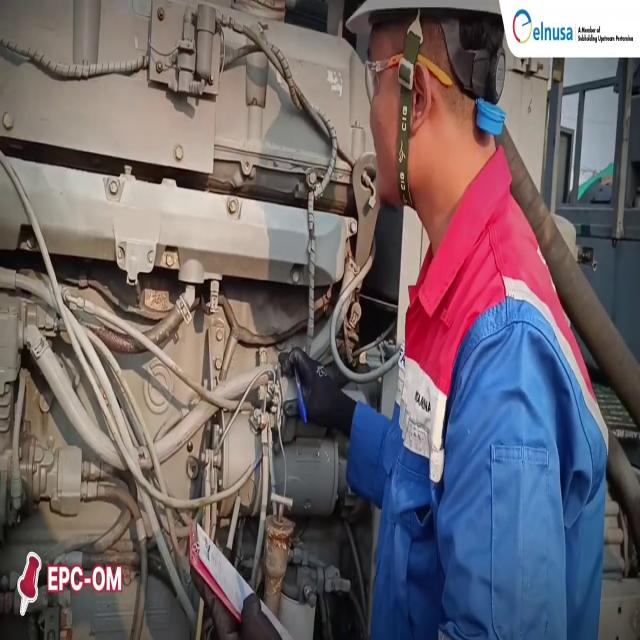Gloves: (282, 349, 353, 422)
Overall Suit: (348, 209, 609, 640)
Strapped: (396, 12, 423, 198)
